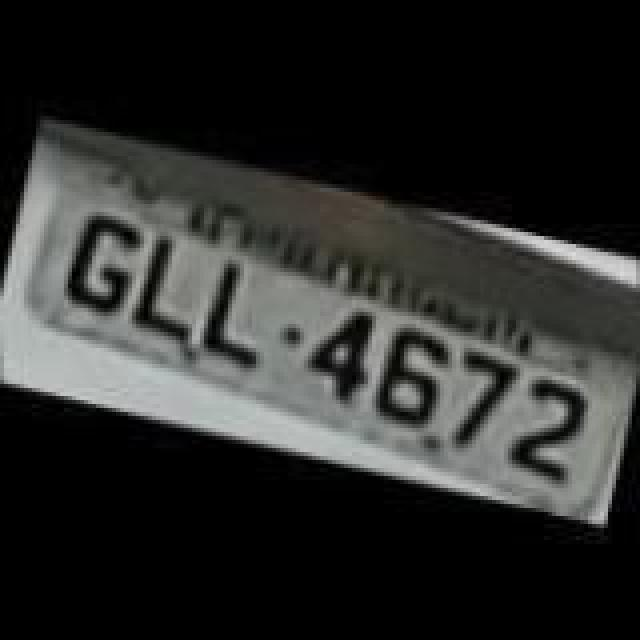2: (496, 362, 596, 486)
4: (292, 296, 388, 412)
6: (360, 316, 464, 436)
7: (432, 338, 532, 462)
G: (48, 200, 148, 320)
L: (192, 256, 288, 376), (122, 232, 214, 348)
